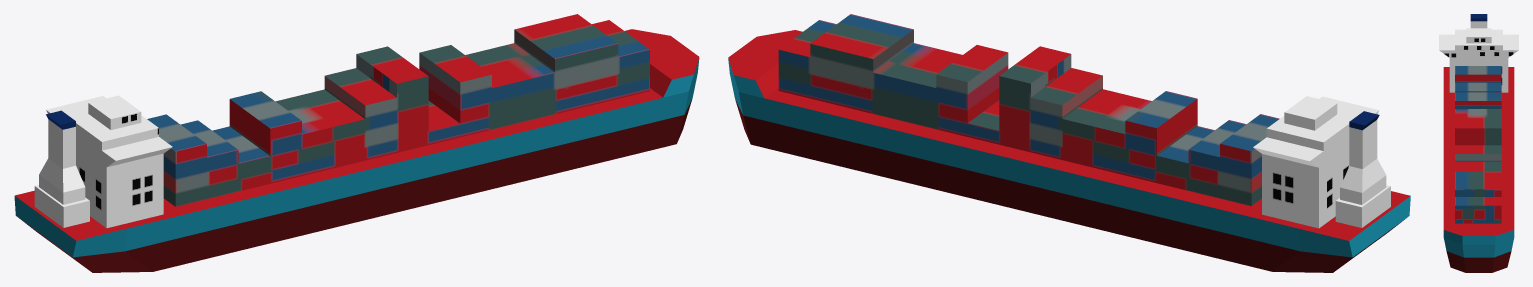
The model's file is CargoNormXY_BridgeNormY.glb.
The picture shows the model from 3 angles, left to right: view 1: azimuth 30°, elevation 25°; view 2: azimuth 150°, elevation 25°; view 3: azimuth 270°, elevation 25°; orthographic projection. The views are drawn at different scales.
Visible parts, largest first — view 1: Cargo, Bridge; view 2: Cargo, Bridge; view 3: Cargo, Bridge.
Part boxes in pixels (<box>): Cargo: <box>14,14,699,272</box>; Bridge: <box>34,95,172,228</box>; Cargo: <box>728,14,1410,272</box>; Bridge: <box>1253,96,1390,228</box>; Cargo: <box>1443,66,1514,272</box>; Bridge: <box>1439,14,1518,92</box>.
Bounding box in the file's own units: 245 × 55.71 × 46.33.
1 material, 1 textured.
